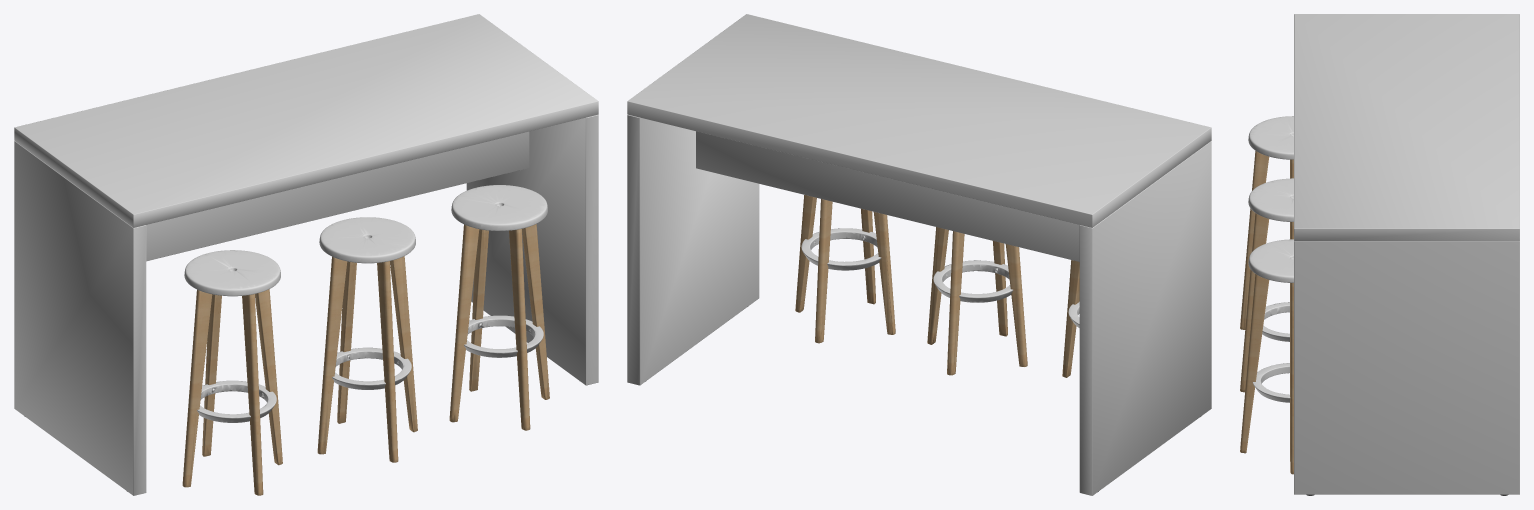
The model's file is bar_counter.glb.
3 renders of one model, left to right at view 1: azimuth 30°, elevation 25°; view 2: azimuth 150°, elevation 25°; view 3: azimuth 270°, elevation 25°, orthographic. The views are drawn at different scales.
Visible parts, largest first — view 1: Object_18, Object_29, Object_19; view 2: Object_18, Object_29, Object_19; view 3: Object_18, Object_19, Object_29.
Boxes of the visible parts, x1=… form: Object_18: x1=14, y1=14, x2=598, y2=495; Object_29: x1=182, y1=224, x2=549, y2=495; Object_19: x1=184, y1=185, x2=547, y2=422; Object_18: x1=627, y1=14, x2=1211, y2=495; Object_29: x1=795, y1=195, x2=1079, y2=377; Object_19: x1=801, y1=228, x2=1079, y2=327; Object_18: x1=1294, y1=14, x2=1519, y2=494; Object_19: x1=1248, y1=116, x2=1293, y2=402; Object_29: x1=1240, y1=151, x2=1293, y2=474.
Size of the model in its own units: 1.79 by 1.04 by 0.9851.
Materials: 5 (1 with a texture image).
